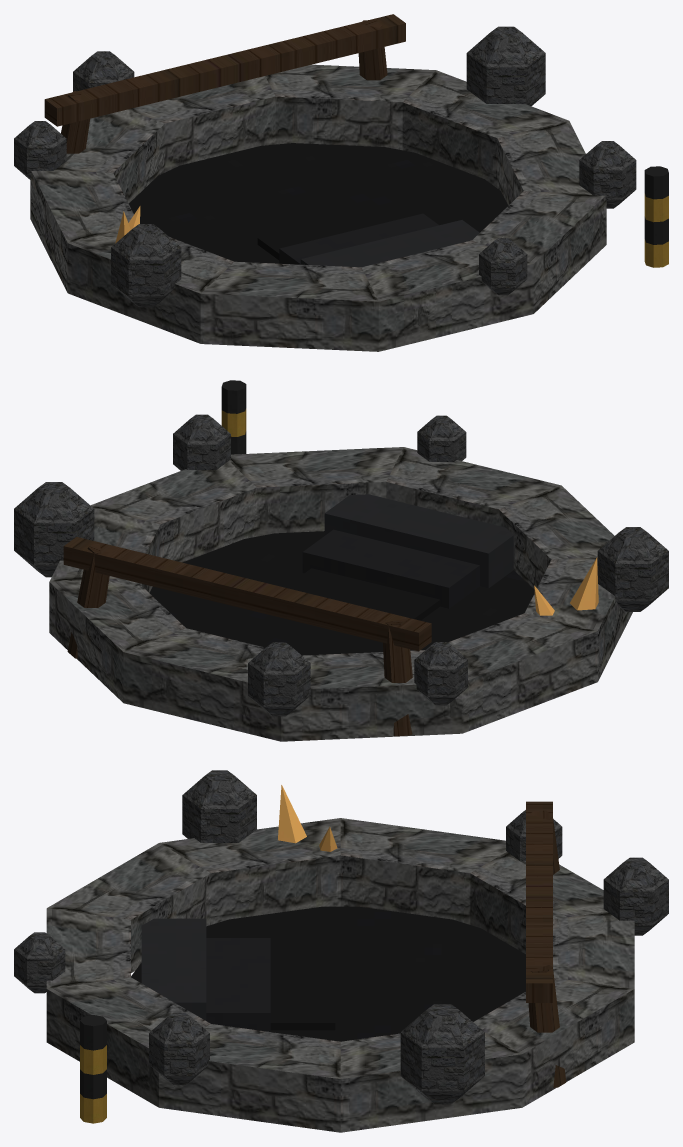
Rendered from cave_hole_01.glb.
3 renders of one model, top to bottom at view 1: azimuth 30°, elevation 25°; view 2: azimuth 150°, elevation 25°; view 3: azimuth 270°, elevation 25°, orthographic. The views are drawn at different scales.
Parts seen in each view (by area): view 1: cave_hole_01; view 2: cave_hole_01; view 3: cave_hole_01.
Boxes of the visible parts, <box> form: cave_hole_01: <box>14,14,668,351</box>; cave_hole_01: <box>14,380,668,741</box>; cave_hole_01: <box>14,770,668,1132</box>.
Bounding box in the file's own units: 2.39 × 0.4792 × 2.44.
9 materials, 9 textured.
